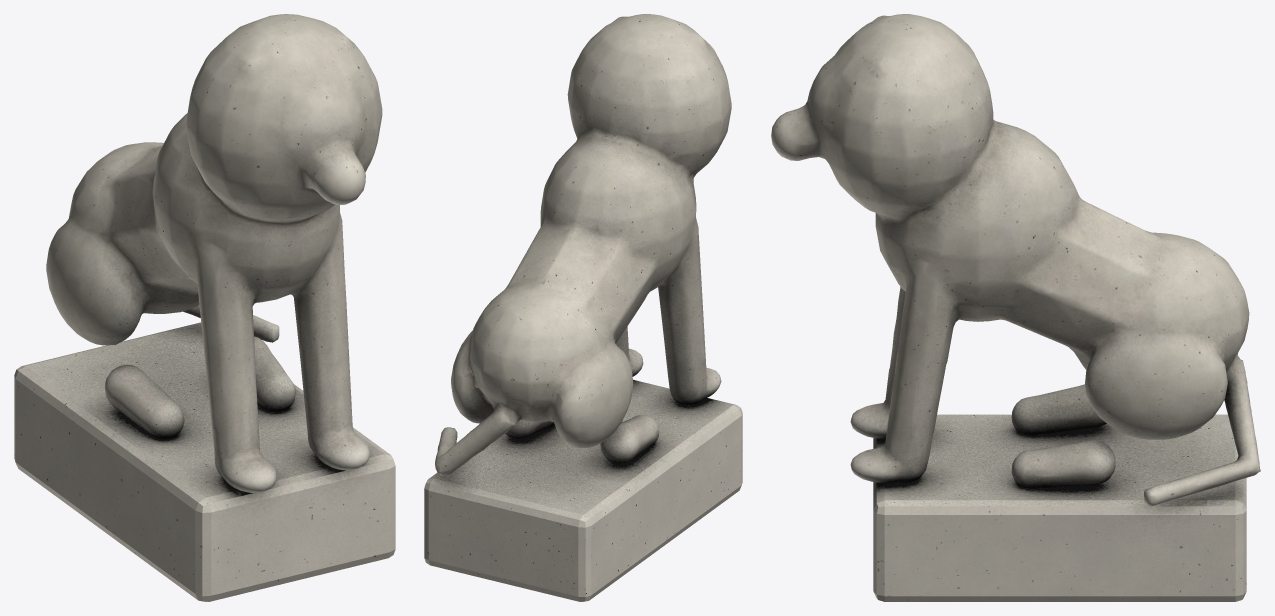
Rendered from deco_estatua_leao.glb.
3 views of the same model, side by side, from view 1: azimuth 30°, elevation 25°; view 2: azimuth 150°, elevation 25°; view 3: azimuth 270°, elevation 25° (orthographic). The views are drawn at different scales.
Parts seen in each view (by area): view 1: deco_estatua_leao_tronco; view 2: deco_estatua_leao_tronco; view 3: deco_estatua_leao_tronco.
Part boxes in pixels (bbox=[...]): deco_estatua_leao_tronco: bbox=[14, 14, 395, 601]; deco_estatua_leao_tronco: bbox=[424, 14, 742, 601]; deco_estatua_leao_tronco: bbox=[771, 14, 1260, 601].
Bounding box in the file's own units: 0.665 × 1.59 × 1.31.
Materials: 1 (1 with a texture image).
